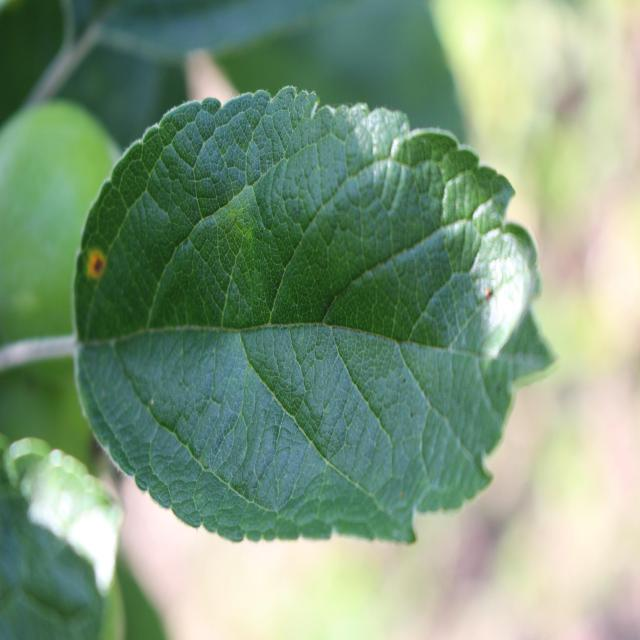Rust: (77, 220, 114, 286)
